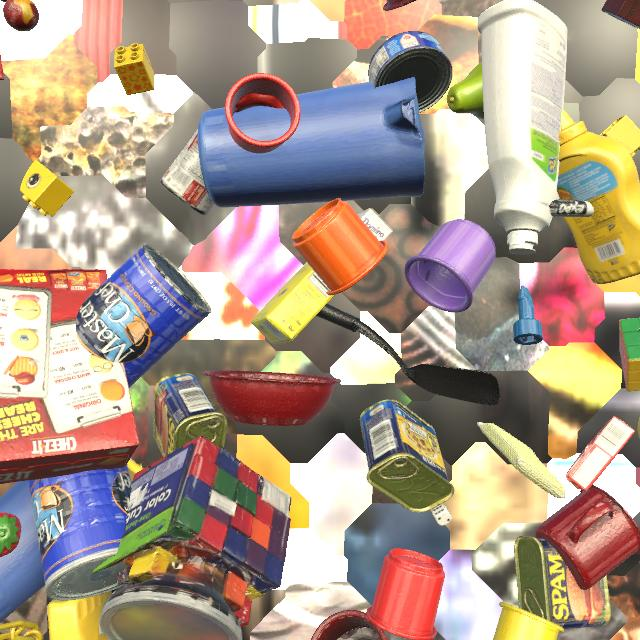ycb_002_master_chef_can: (76, 243, 211, 388), (28, 465, 132, 600)
ycb_003_cracker_box: (0, 269, 140, 484), (0, 52, 4, 81)
ycb_004_sugar_box: (250, 208, 393, 344)
ycb_005_tomato_soup_can: (160, 129, 214, 215)
ycb_006_mustard_bottle: (557, 109, 640, 284), (47, 591, 112, 640)
ycb_007_tuna_fish_can: (368, 31, 453, 113)
ycb_009_gelatin_box: (565, 416, 635, 491)
ycb_010_potted_meat_can: (360, 399, 455, 512), (514, 536, 611, 629), (153, 373, 227, 457)
ycb_012_strawberry: (0, 512, 21, 557)
ycb_014_lemon: (638, 417, 640, 438)
ycb_016_pear: (447, 62, 484, 119)
ycb_018_plum: (1, 0, 7, 3)
